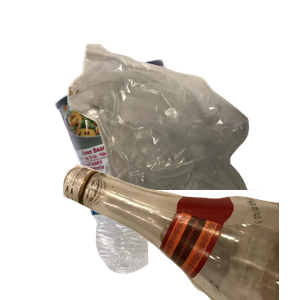glass: (60, 120, 300, 300)
metal: (52, 57, 260, 237)
plastic: (88, 158, 229, 300)
trash: (65, 41, 300, 221)
